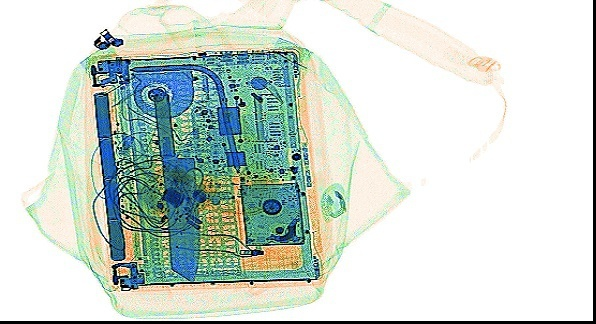knife: (152, 85, 199, 282)
